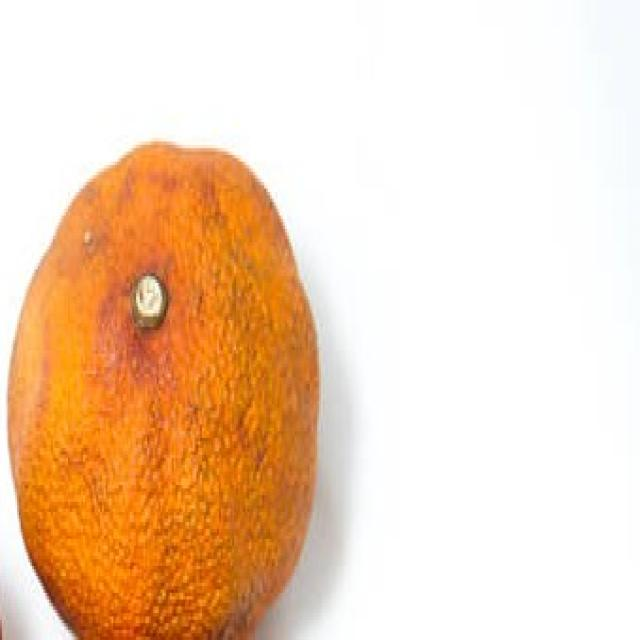overripe: (0, 133, 323, 640)
